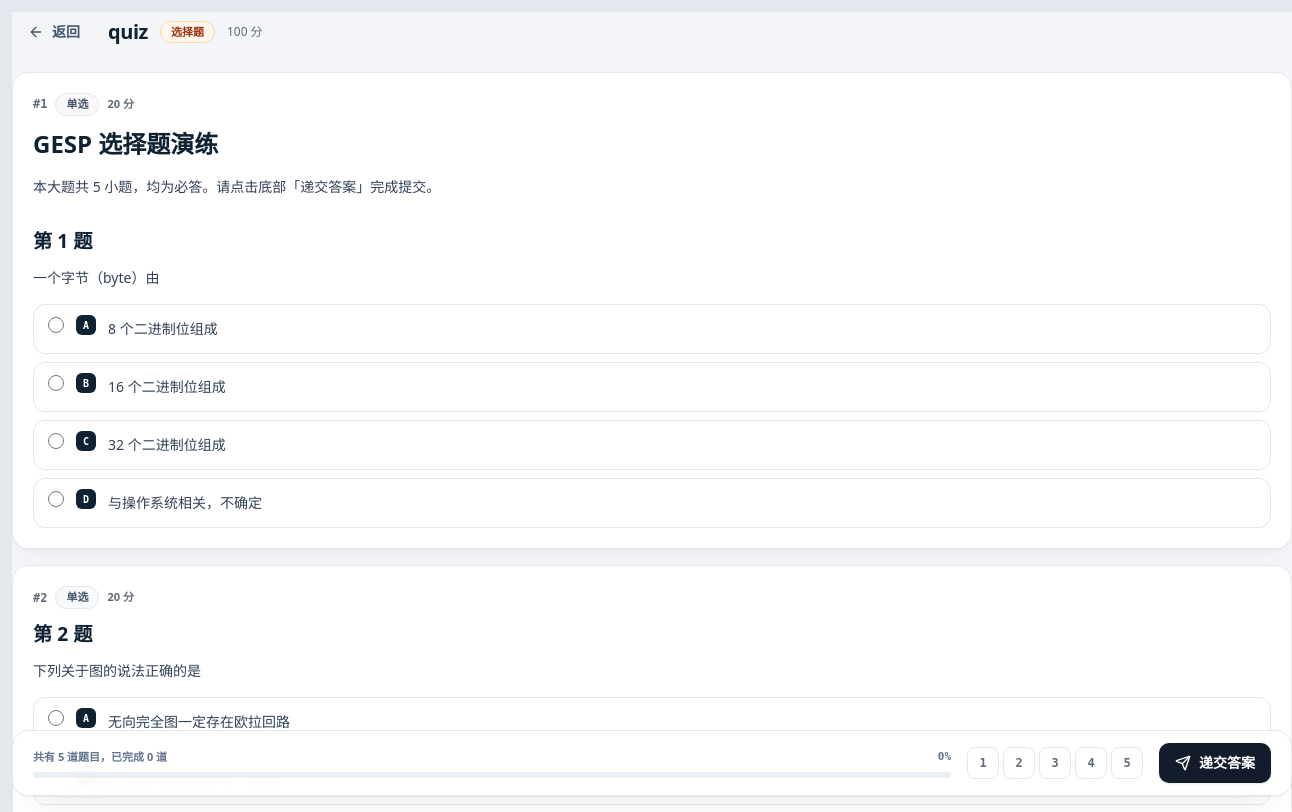
Test: ChoiceAnswerPanel › persists the answer sheet draft while selecting
Expected: the text "#1" is shown, x1=33 y1=96 x2=48 y2=112
Click the radio button labelled "A 8 个二进制位组成": [56, 325] box x1=48 y1=317 x2=64 y2=333
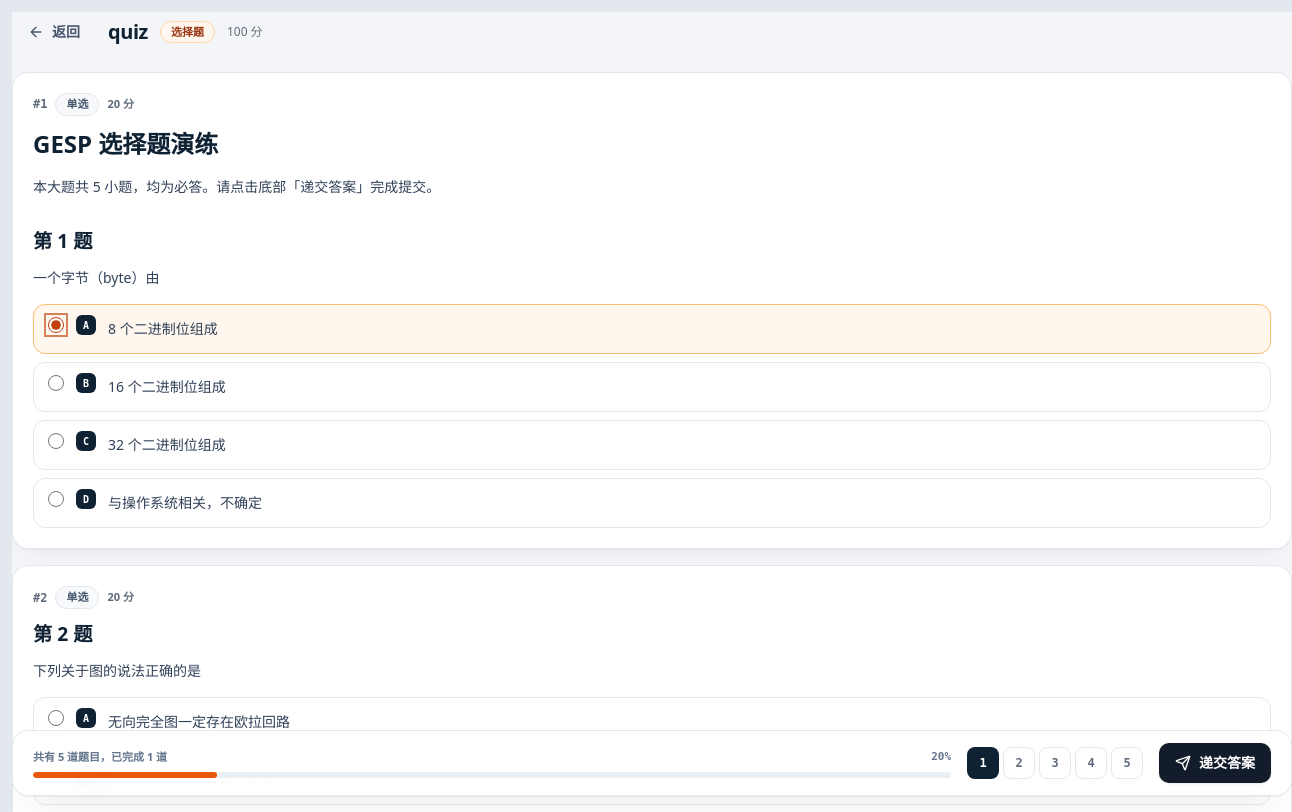
Now the text "共有 5 道题目，已完成 1 道" is shown, box x1=33 y1=749 x2=167 y2=765
